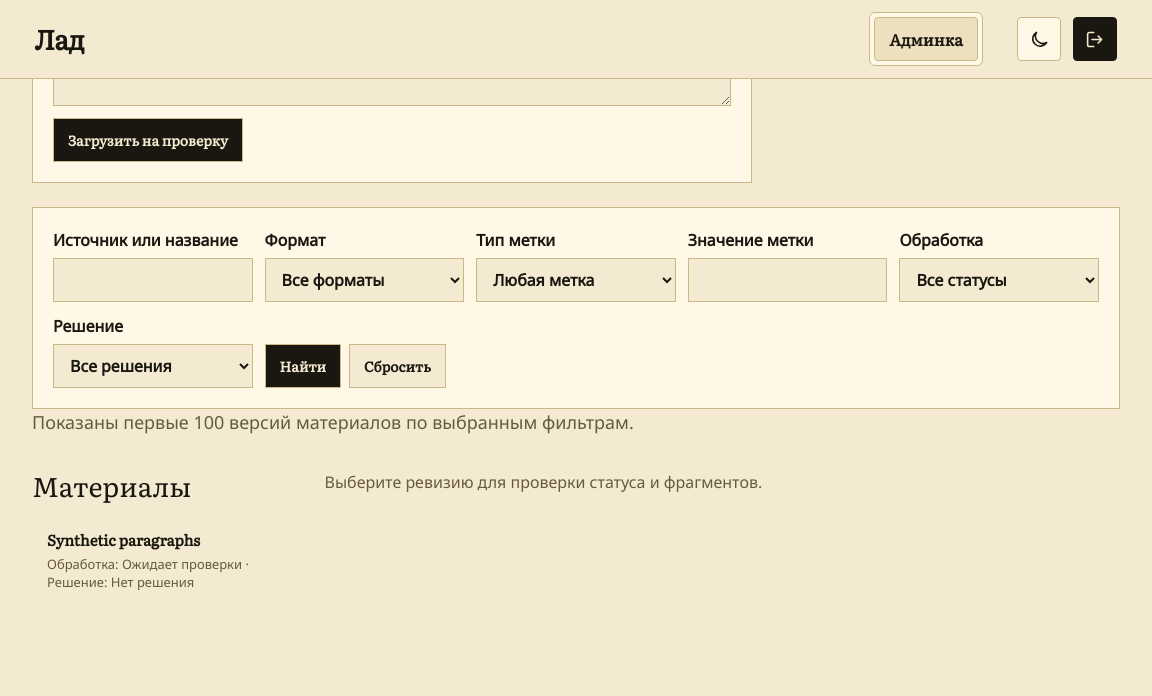
admin excludes a reviewed segment before approval and original access is disabled
The image size is (1152, 696).
(page scrolled)
Click the button "Synthetic paragraphs".
click(161, 560)  # box [32,517,290,604]
(page scrolled)
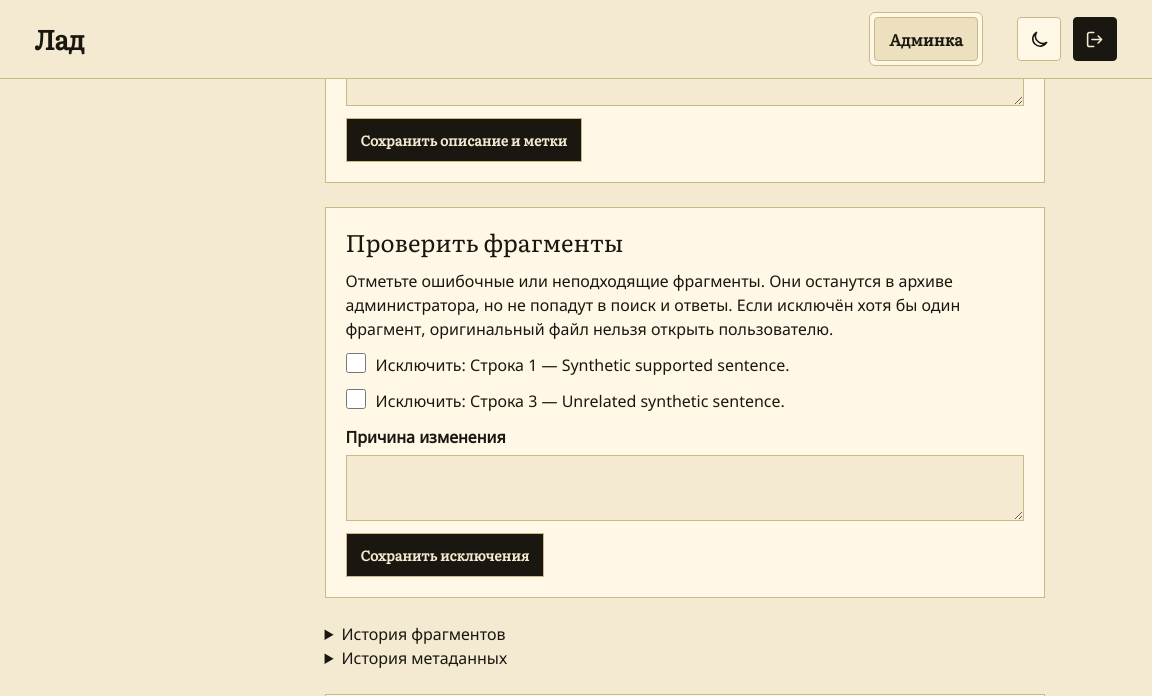
Click the checkbox labelled "Исключить: Строка 3 — Unrelated synthetic sentence.".
click(356, 399)  # box [346,389,366,409]
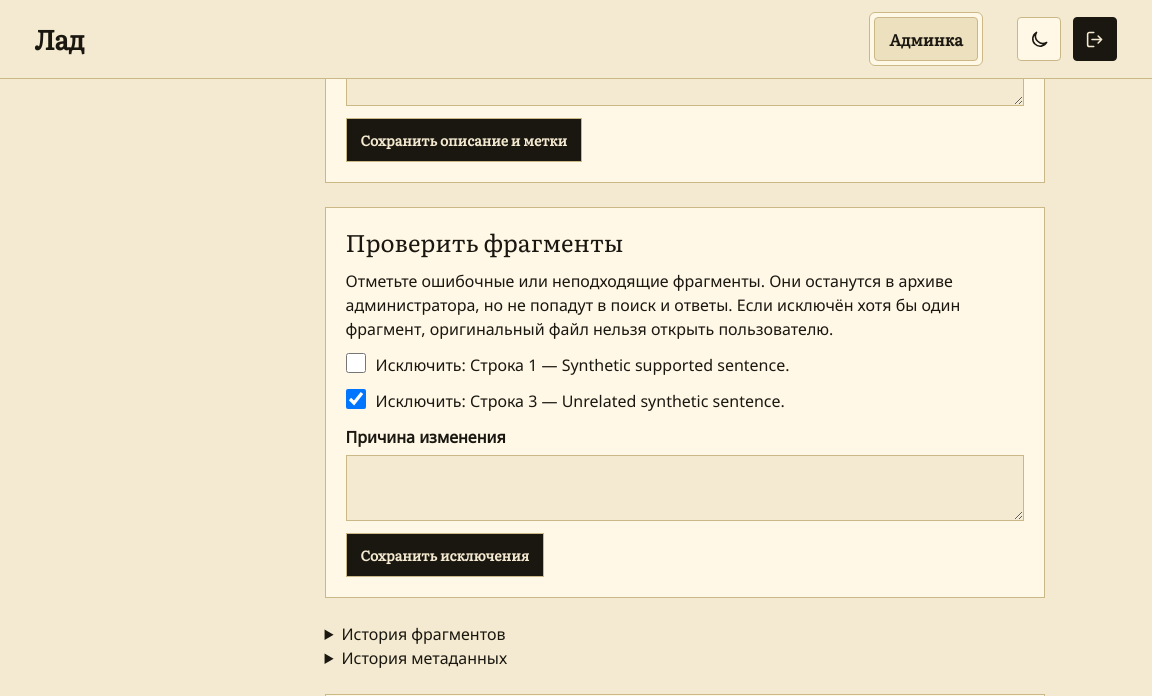
Type "Unrelated synthetic paragraph" into the text box labelled "Причина изменения".
click(684, 488); type("Unrelated synthetic paragraph")  # box [346,455,1024,521]
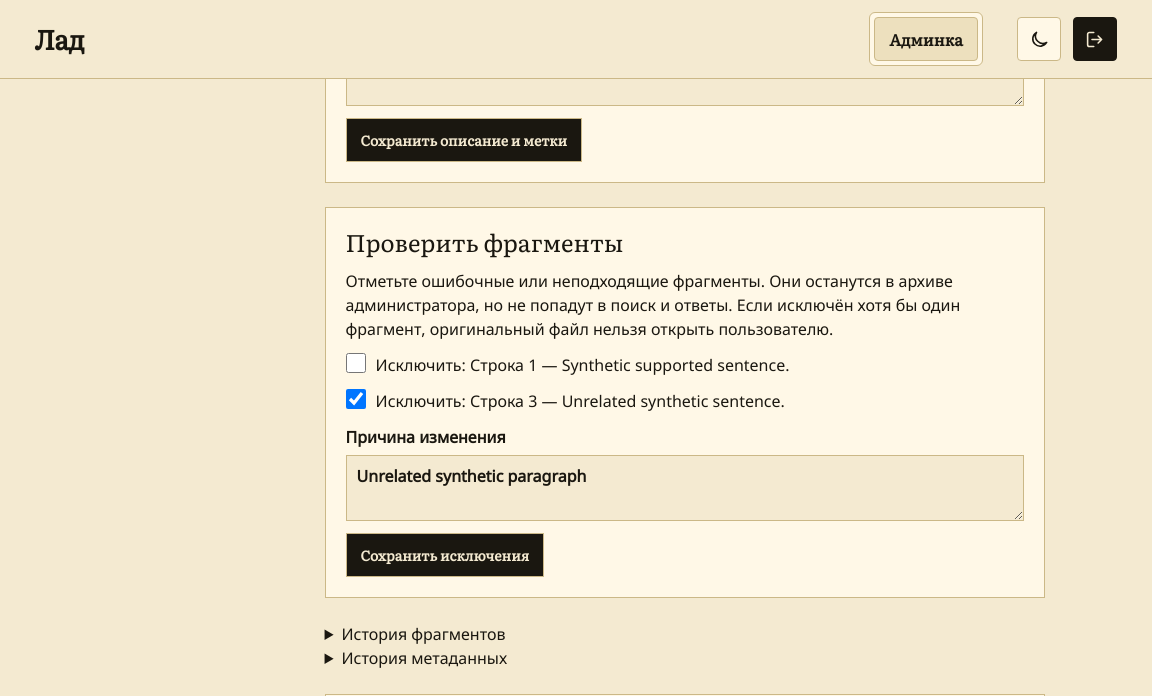
Click the button "Сохранить исключения".
click(445, 555)  # box [346,533,544,577]
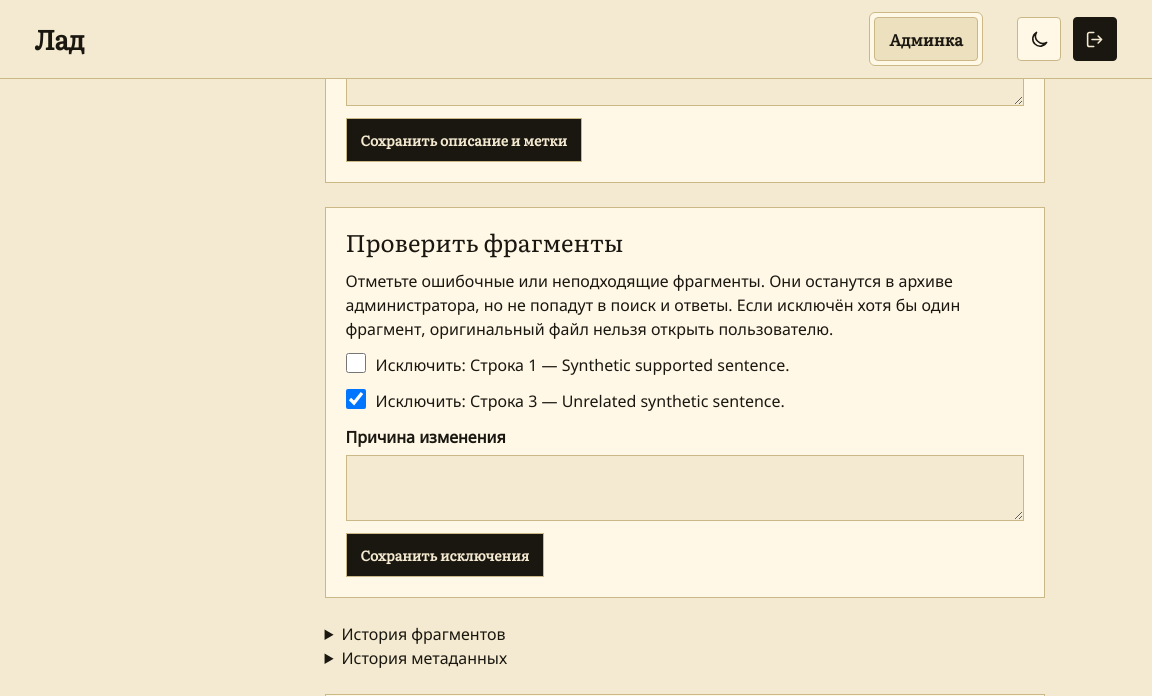
Click the heading "История фрагментов".
click(424, 634)  # box [342,623,506,645]
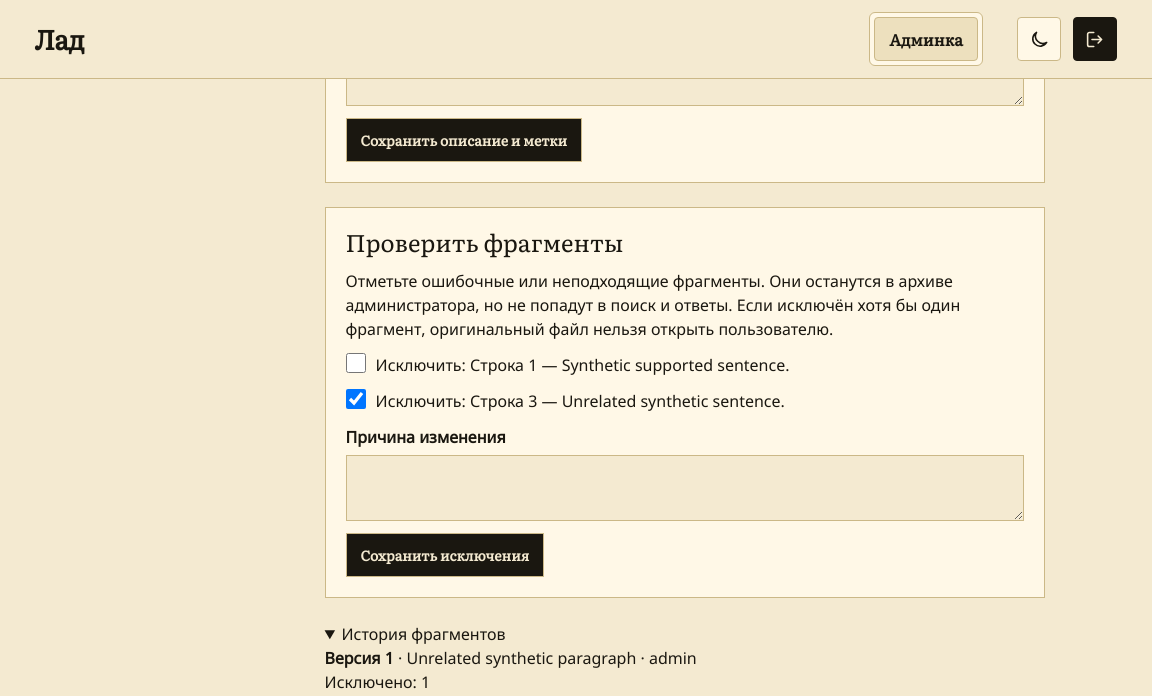
Result: the text "Исключено: 1" is shown at [324,671,430,693]
